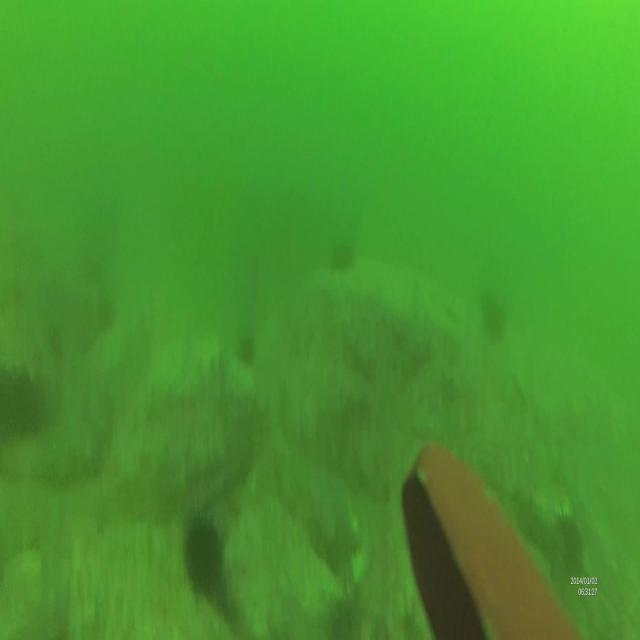echinus: (1, 352, 42, 443), (184, 504, 223, 596), (555, 504, 585, 567), (480, 288, 506, 340), (329, 238, 356, 274)
